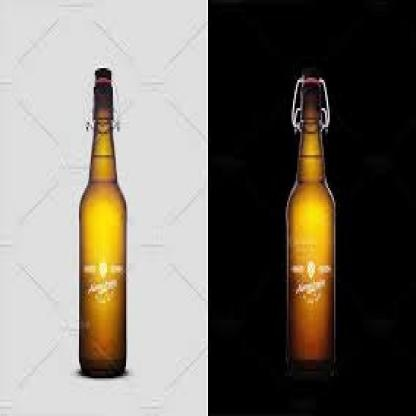trash: (286, 74, 334, 375), (79, 68, 125, 376)
